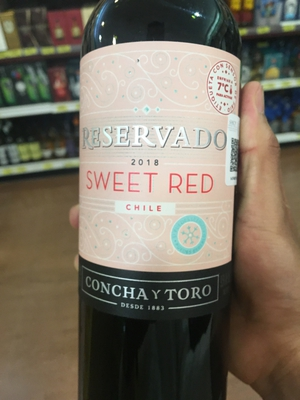reservado sweet red: (70, 18, 248, 400)
